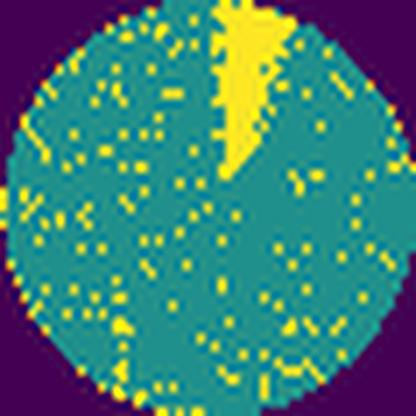Loc: (205, 0, 298, 183)
